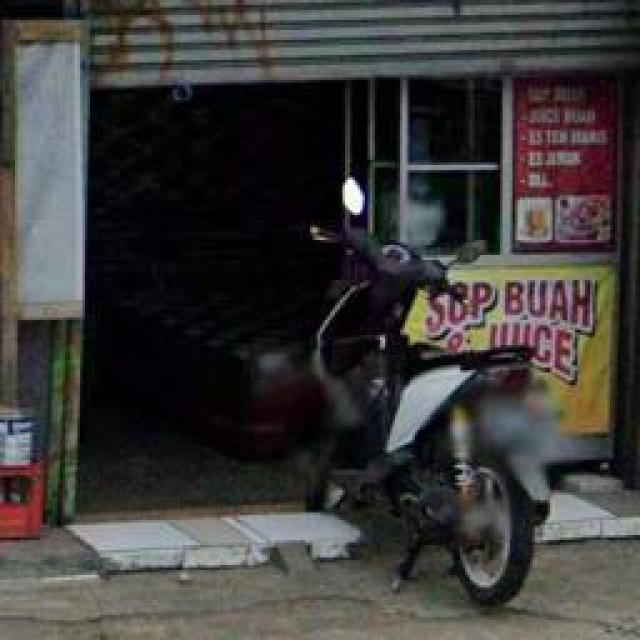motorbike: (228, 190, 578, 618)
